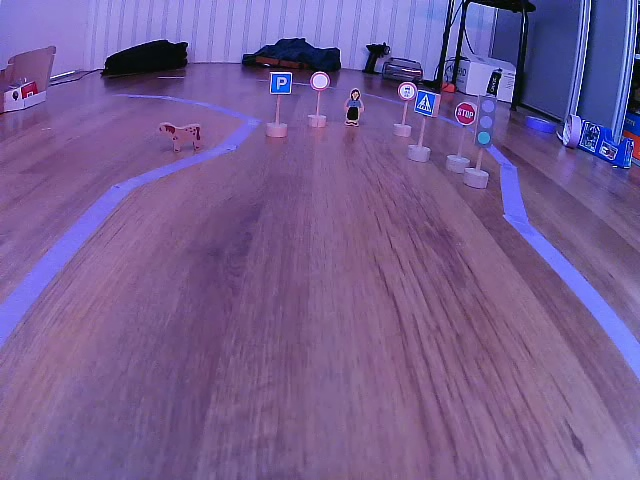fietspad: (397, 80, 415, 101)
groenlicht: (475, 96, 498, 148)
mens: (344, 88, 364, 127)
paard: (156, 121, 205, 153)
parkeerbord: (270, 71, 292, 96)
stopbord: (454, 101, 474, 126)
wegdicht: (311, 72, 328, 92)
zebrapad: (414, 89, 439, 113)
